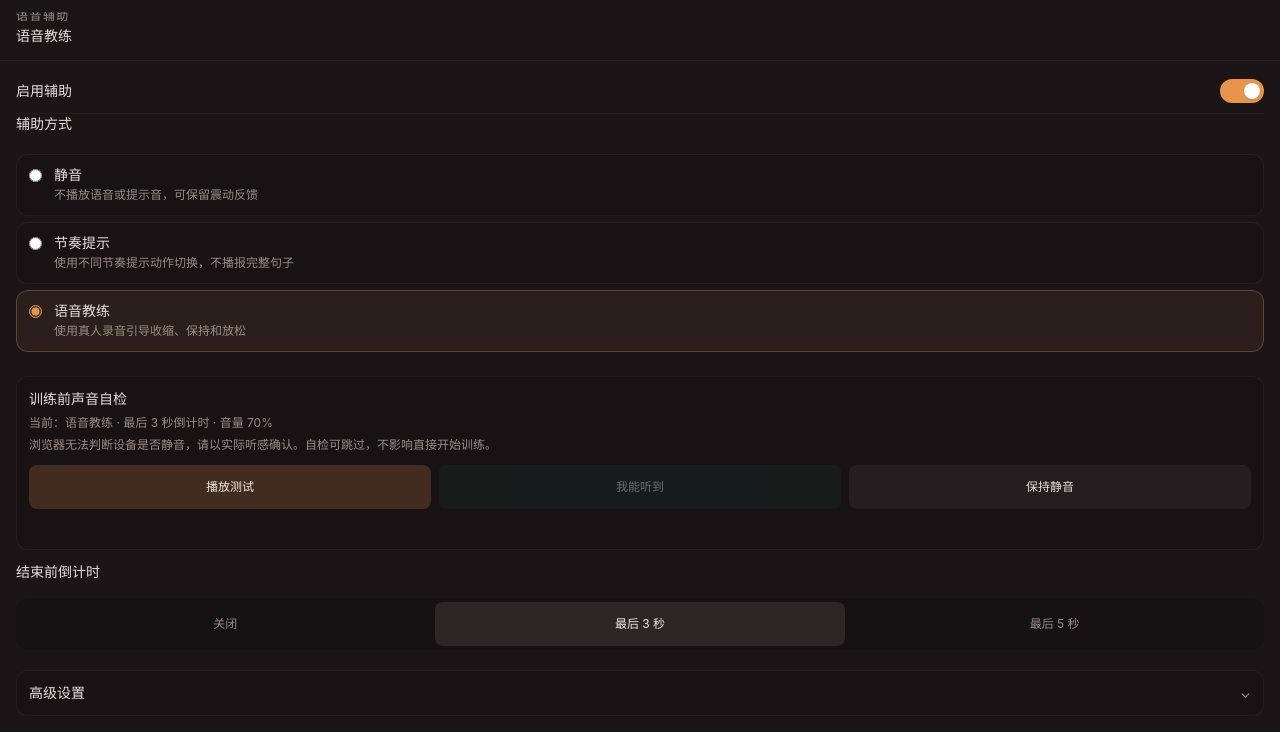
Test: VoiceSettingsPanel › keeps silent without blocking the training controls
(page scrolled)
What coordinates should you click on to do the following:
click the button "保持静音"
I would click on:
 (1050, 487)
Its box is x1=849 y1=465 x2=1251 y2=509.
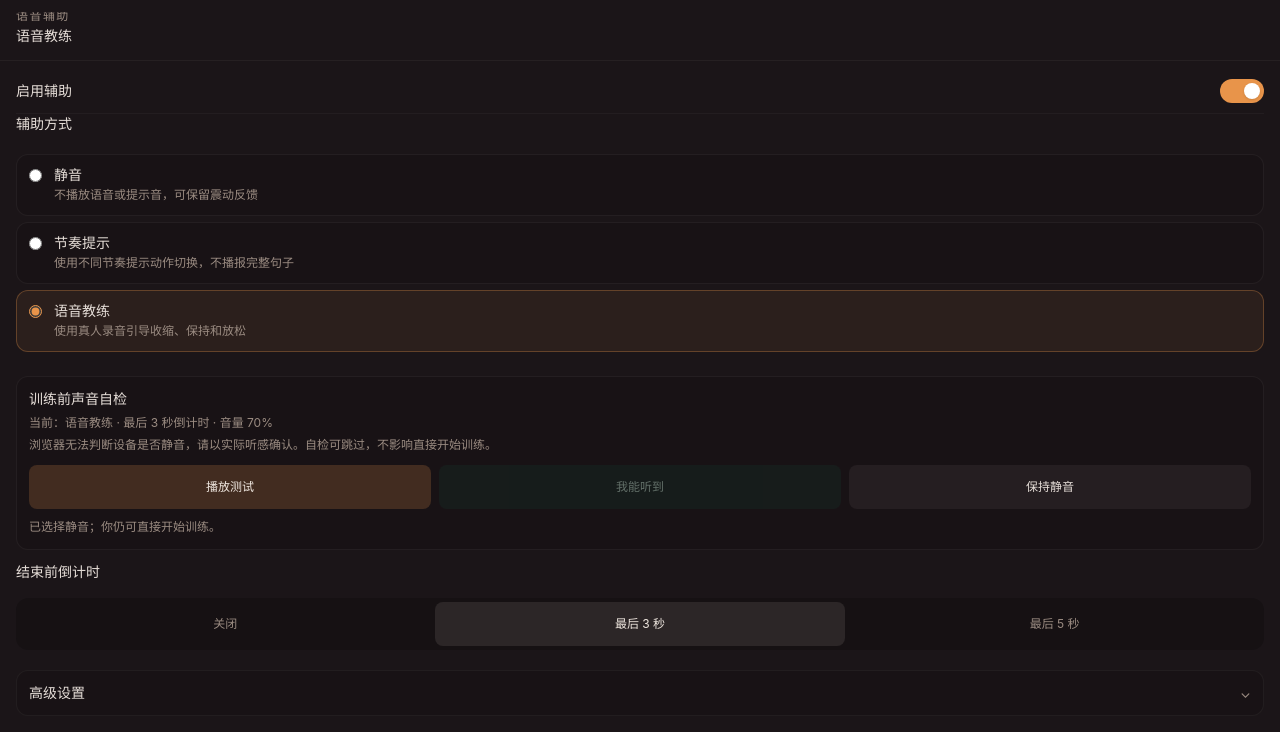
Check: the text "已选择静音；你仍可直接开始训练。" is shown, box x1=29 y1=519 x2=221 y2=534
